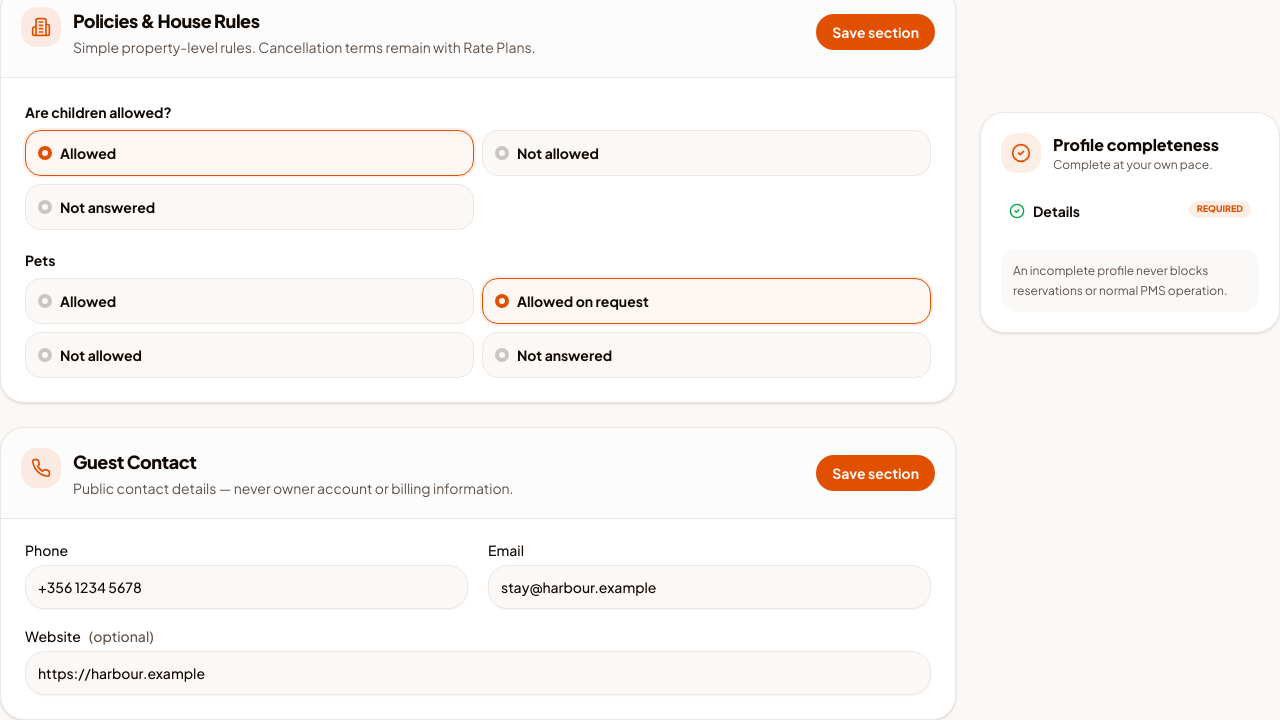
PropertyProfileSettings › prevents rapid duplicate Guest Contact saves while the request is pending
The image size is (1280, 720).
(page scrolled)
Expected: the field labelled "Phone" holds "+356 1234 5678", left=25, top=565, right=468, bottom=609
Click the button "Save section" in the row of "Guest Contact".
click(876, 473)  # box left=816, top=455, right=935, bottom=491
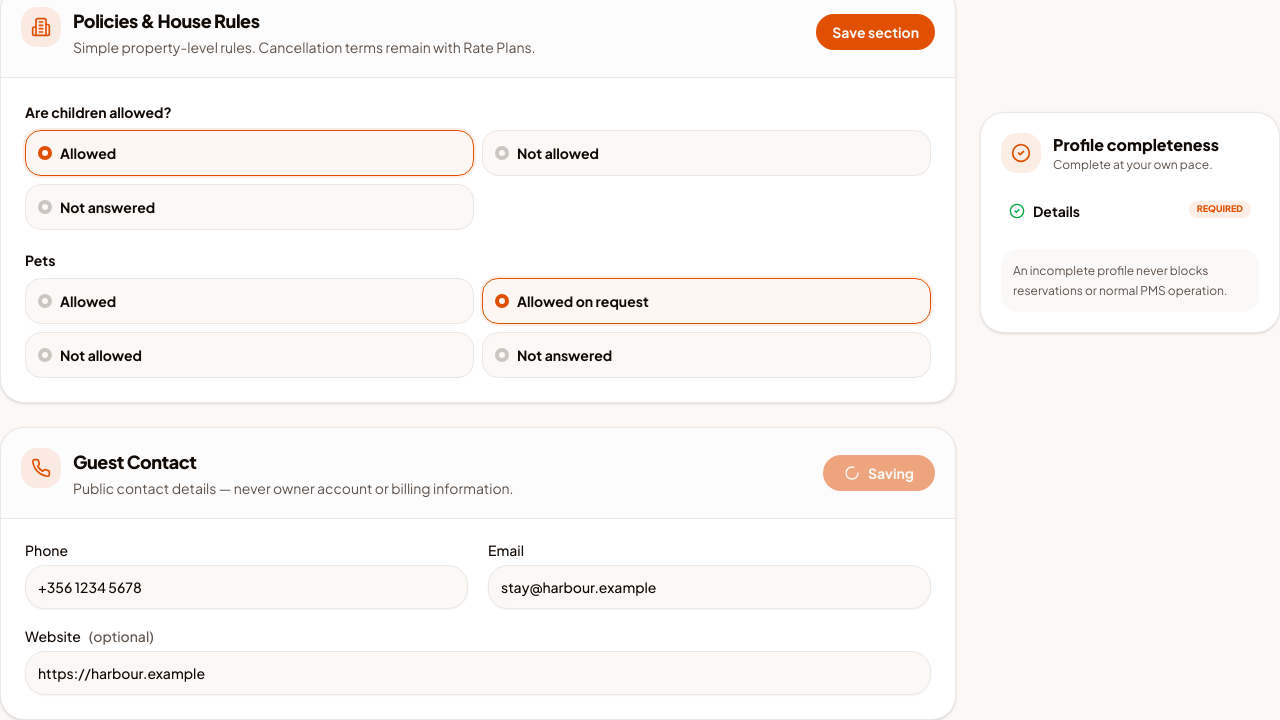
Expected: the button named "Save section" is disabled
Click the button named "Save section".
click(879, 473)  # box left=823, top=455, right=935, bottom=491
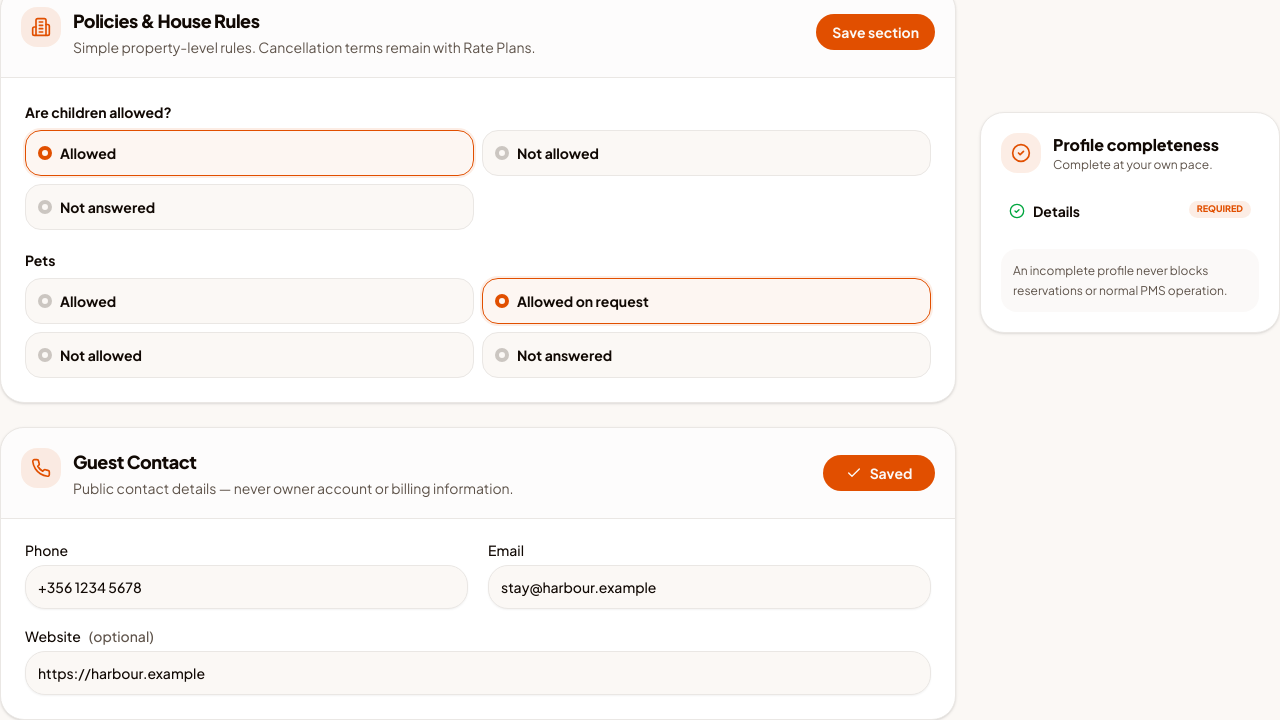
Expected: the button named "Save section" is enabled, left=823, top=455, right=935, bottom=491
